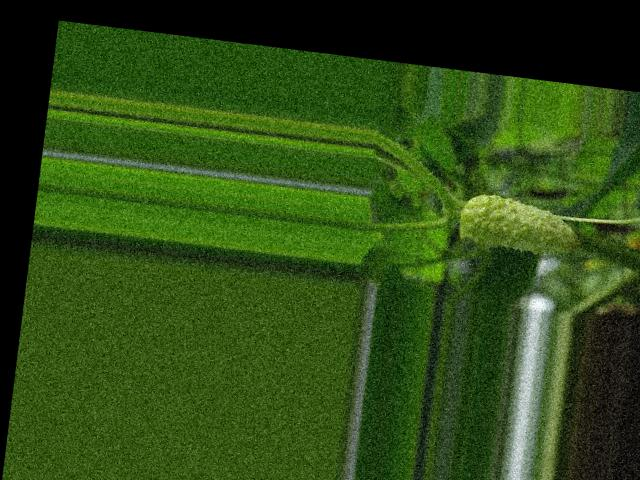cucumber: (457, 189, 585, 257)
